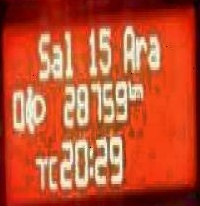0: (73, 137, 87, 187), (11, 86, 25, 128)
1: (86, 23, 96, 73)
2: (58, 137, 72, 187), (93, 134, 107, 181), (62, 81, 74, 122)
5: (97, 23, 111, 73), (102, 78, 113, 122)
7: (88, 78, 101, 122), (33, 153, 43, 186)
8: (75, 81, 88, 125)
9: (108, 131, 122, 181), (114, 78, 127, 120)
X: (36, 25, 50, 81), (63, 22, 73, 78), (122, 20, 133, 70), (147, 28, 159, 70), (50, 37, 61, 76), (135, 31, 146, 70), (47, 150, 57, 186), (133, 81, 142, 100), (127, 75, 133, 103), (88, 139, 92, 178)
